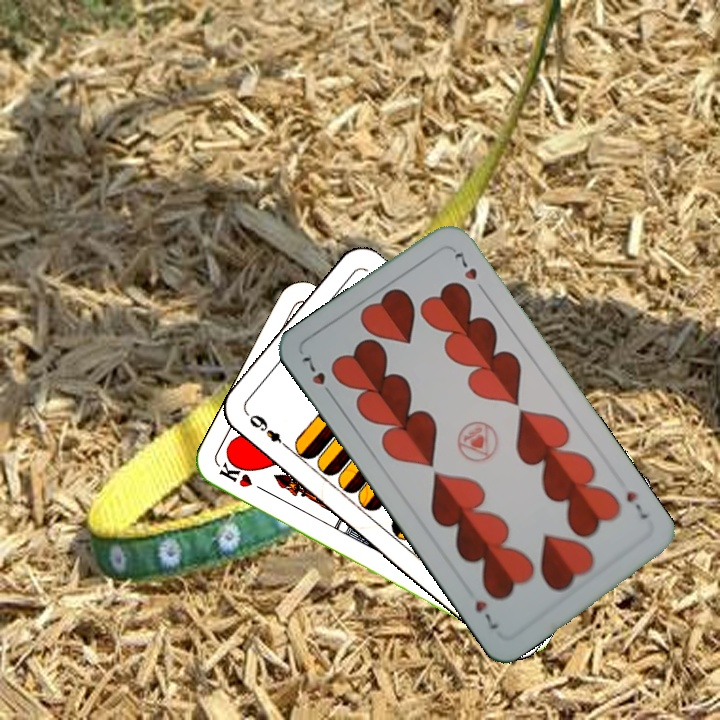E9: (243, 409, 292, 452)
H7: (297, 350, 337, 402), (622, 487, 651, 522)
HK: (215, 457, 271, 496)
